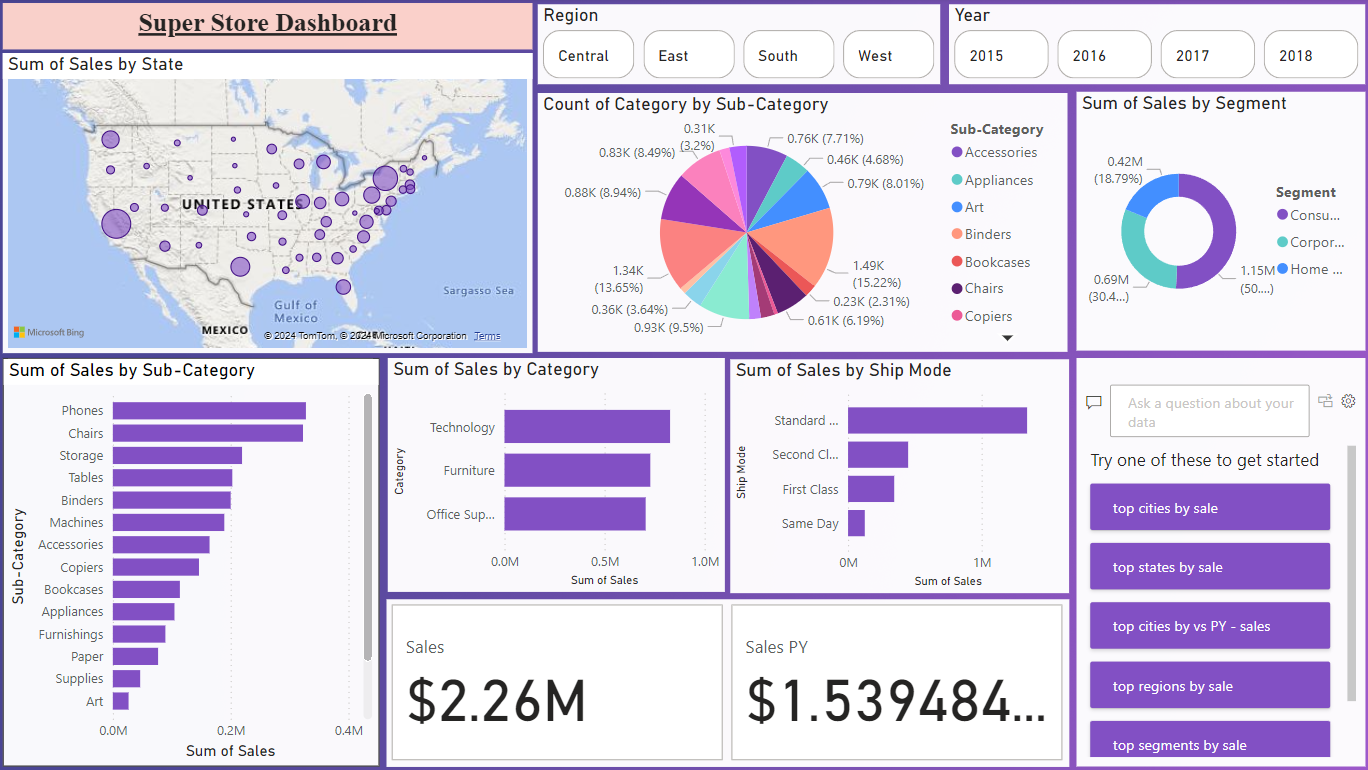

What the dashboard file says about the page in this screenshot:
{"tool":"powerbi","page":{"name":"Page 1","canvas":[1280,720],"ordinal":0},"visuals":[{"type":"pieChart","fields":{"Series":["train.Sub-Category"],"Y":["CountNonNull(train.Category)"]},"box":[501.2,88.4,493,240.7],"z":0},{"type":"clusteredBarChart","fields":{"Category":["train.Category"],"Y":["Sum(train.Sales)"]},"box":[361.6,334.9,314,217.4],"z":1000},{"type":"clusteredBarChart","fields":{"Category":["train.Sub-Category"],"Y":["Sum(train.Sales)"]},"box":[3.5,334.9,350,380.2],"z":2000},{"type":"clusteredBarChart","fields":{"Category":["train.Ship Mode"],"Y":["Sum(train.Sales)"]},"box":[680.2,336,315.1,217.4],"z":3000},{"type":"map","fields":{"Category":["train.State"],"Size":["Sum(train.Sales)"]},"box":[3.5,51.2,493,279.1],"z":4000},{"type":"cardVisual","fields":{"Data":["Key Measures.Sales","Key Measures.Sales PY"]},"box":[360.5,559.3,634.9,155.8],"z":5000},{"type":"advancedSlicerVisual","fields":{"Values":["train.Year"]},"box":[883.7,5.8,387.2,74.4],"z":6000},{"type":"textbox","box":[3.5,4.7,493,43],"z":7000},{"type":"advancedSlicerVisual","fields":{"Values":["train.Region"]},"box":[501.2,5.8,374.4,74.4],"z":8000},{"type":"qnaVisual","box":[1002.3,334.9,268.6,380.2],"z":9000},{"type":"donutChart","fields":{"Y":["Sum(train.Sales)"],"Category":["train.Segment"]},"box":[1002.3,87.2,268.6,240.7],"z":10000}]}

Visuals, with their boxes in screenshot pixels (x1, y1, x2, y2), scaled from the page's 1280x720 canvas onto the 1368x770 screenshot:
pieChart - train.Sub-Category x CountNonNull(train.Category): crop(536, 95, 1063, 352)
clusteredBarChart - train.Category x Sum(train.Sales): crop(386, 358, 722, 591)
clusteredBarChart - train.Sub-Category x Sum(train.Sales): crop(4, 358, 378, 765)
clusteredBarChart - train.Ship Mode x Sum(train.Sales): crop(727, 359, 1064, 592)
map - train.State x Sum(train.Sales): crop(4, 55, 531, 353)
cardVisual - Key Measures.Sales x Key Measures.Sales PY: crop(385, 598, 1064, 765)
advancedSlicerVisual - train.Year: crop(944, 6, 1358, 86)
textbox: crop(4, 5, 531, 51)
advancedSlicerVisual - train.Region: crop(536, 6, 936, 86)
qnaVisual: crop(1071, 358, 1358, 765)
donutChart - Sum(train.Sales) x train.Segment: crop(1071, 93, 1358, 351)
